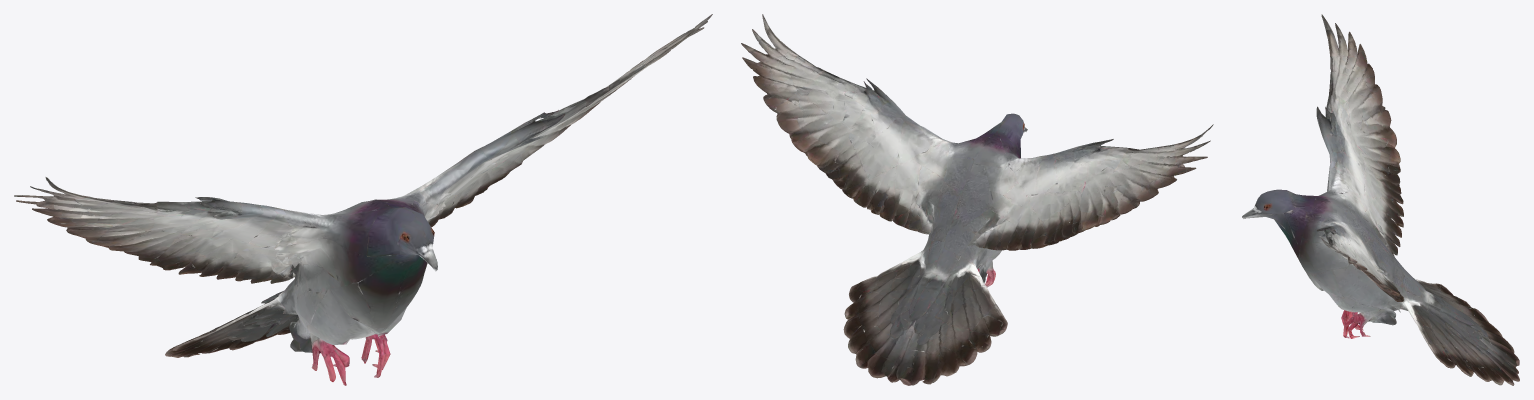
The model's file is pigeonFly.glb.
3 views of the same model, side by side, from view 1: azimuth 30°, elevation 25°; view 2: azimuth 150°, elevation 25°; view 3: azimuth 270°, elevation 25° (orthographic). The views are drawn at different scales.
Visible parts, largest first — view 1: Object_5; view 2: Object_5; view 3: Object_5.
Boxes of the visible parts, x1,y1,x2,y2 form: Object_5: [14, 14, 712, 385]; Object_5: [741, 14, 1213, 385]; Object_5: [1242, 14, 1519, 385].
Size of the model in its own units: 1.9 by 0.9432 by 0.9601.
1 material, 1 textured.
